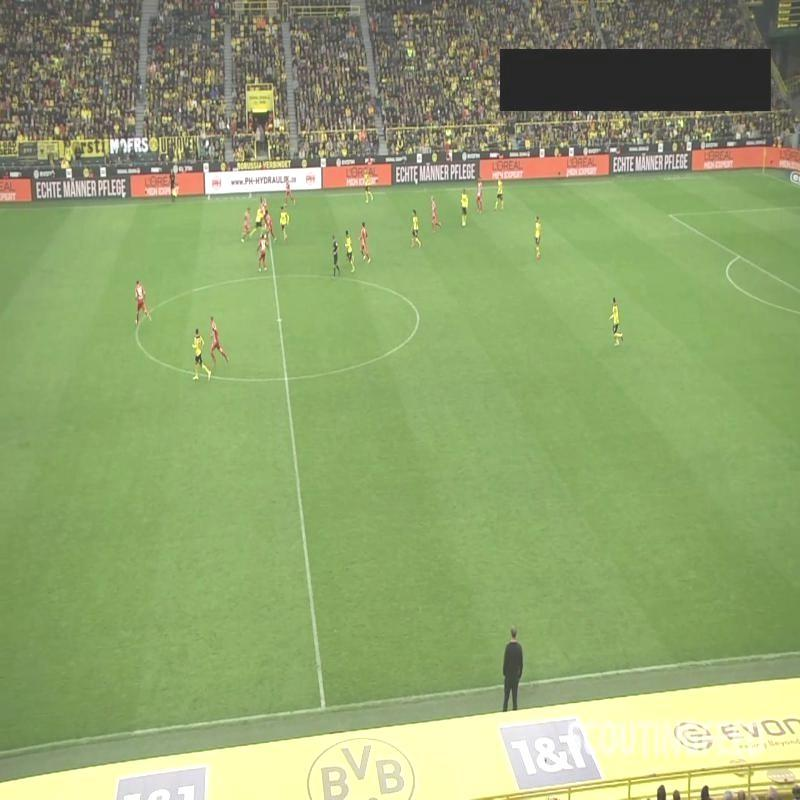1: (756, 167, 770, 181)
10: (732, 248, 746, 262)
13: (256, 191, 270, 205)
14: (266, 270, 280, 284)
15: (279, 372, 293, 386)
16: (312, 696, 335, 720)
9: (664, 207, 678, 221)
c: (126, 326, 146, 342), (412, 311, 426, 325)
